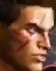kevin: (5, 0, 50, 70)
